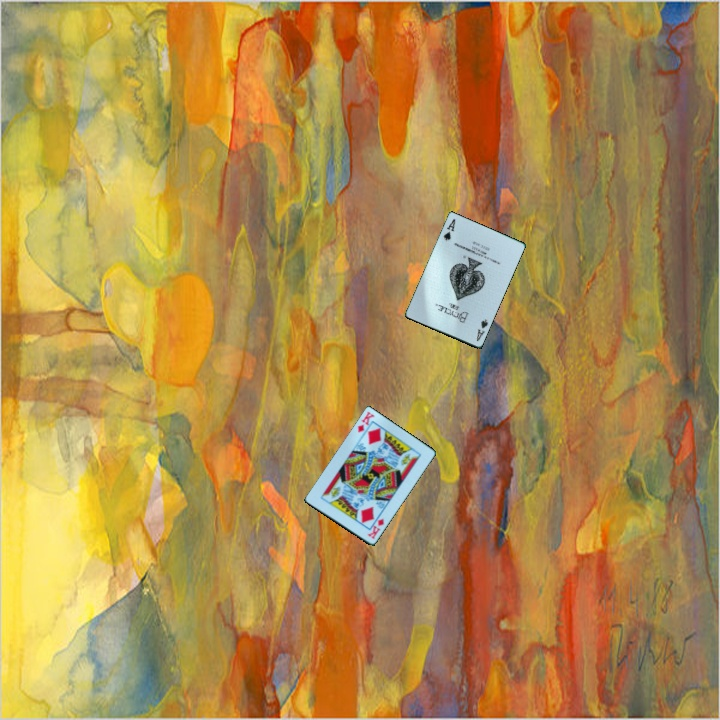As: (473, 316, 491, 344), (440, 216, 458, 244)
Kd: (364, 515, 387, 542), (354, 408, 377, 435)
